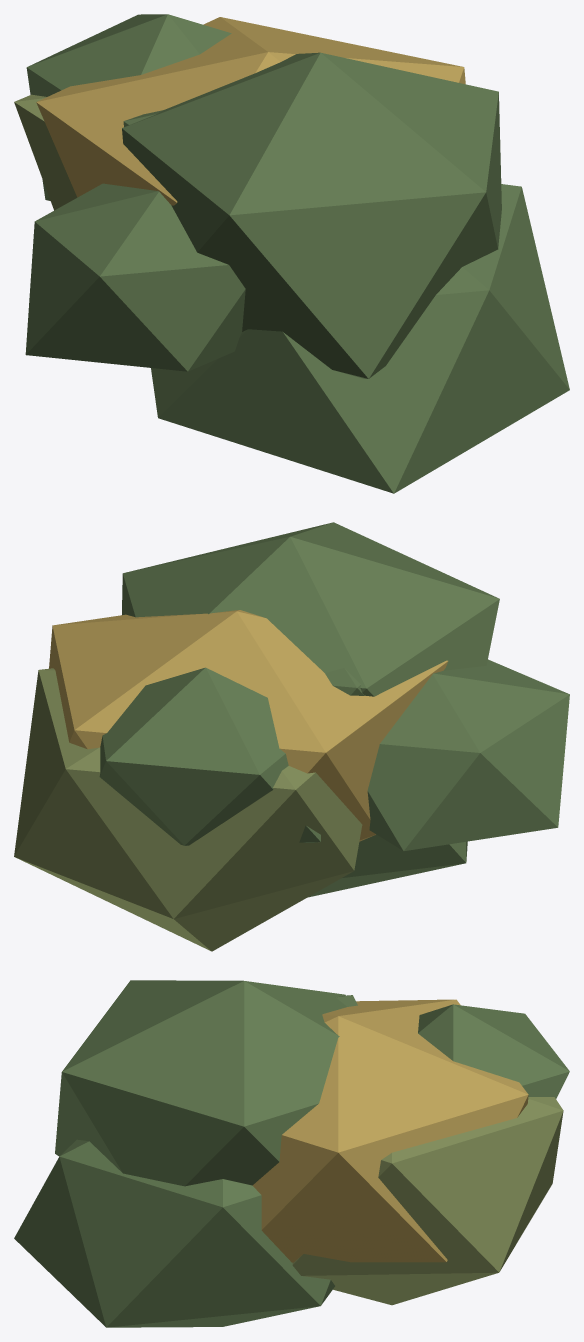
File: bush_1.glb
3 renders of one model, top to bottom at view 1: azimuth 30°, elevation 25°; view 2: azimuth 150°, elevation 25°; view 3: azimuth 270°, elevation 25°, orthographic. The views are drawn at different scales.
Parts seen in each view (by area): view 1: bush_3; view 2: bush_3; view 3: bush_3.
Boxes of the visible parts, bbox=[...] form: bush_3: bbox=[14, 14, 569, 493]; bush_3: bbox=[14, 522, 569, 951]; bush_3: bbox=[14, 980, 569, 1327].
Size of the model in its own units: 1.44 by 1.12 by 1.64.
